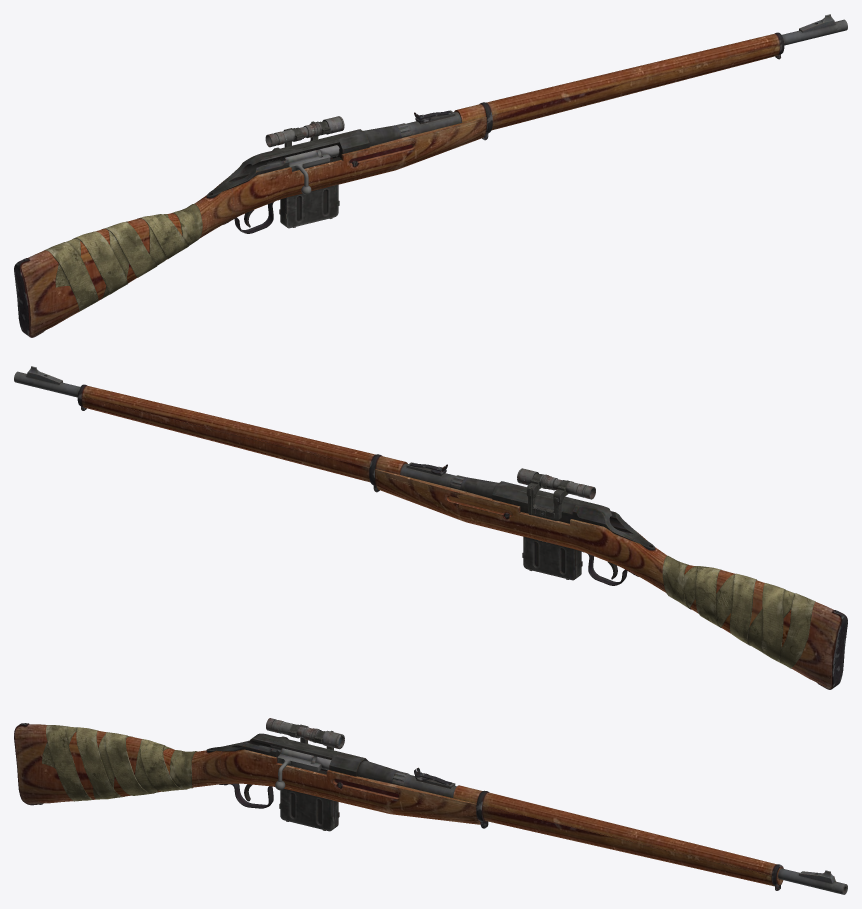
File: sniper.glb
The picture shows the model from 3 angles, top to bottom: view 1: azimuth 30°, elevation 25°; view 2: azimuth 150°, elevation 25°; view 3: azimuth 330°, elevation 25°; orthographic projection.
Visible parts, largest first — view 1: bolt_action_rifle_7_62, bolt_action_rifle_7_62_wrap, bolt_action_rifle_7_62_scope, bolt_action_rifle_7_62_bolt_a; view 2: bolt_action_rifle_7_62, bolt_action_rifle_7_62_wrap, bolt_action_rifle_7_62_scope; view 3: bolt_action_rifle_7_62, bolt_action_rifle_7_62_wrap, bolt_action_rifle_7_62_scope, bolt_action_rifle_7_62_bolt_a.
Part boxes in pixels (box(x1,y1,x2,y2)): bolt_action_rifle_7_62: box(14, 14, 847, 337); bolt_action_rifle_7_62_wrap: box(44, 203, 202, 311); bolt_action_rifle_7_62_scope: box(265, 116, 344, 147); bolt_action_rifle_7_62_bolt_a: box(259, 145, 339, 194); bolt_action_rifle_7_62: box(14, 366, 847, 689); bolt_action_rifle_7_62_wrap: box(662, 556, 815, 668); bolt_action_rifle_7_62_scope: box(517, 468, 595, 520); bolt_action_rifle_7_62: box(14, 723, 847, 894); bolt_action_rifle_7_62_wrap: box(42, 725, 197, 801); bolt_action_rifle_7_62_scope: box(266, 718, 344, 750); bolt_action_rifle_7_62_bolt_a: box(259, 745, 331, 790).
Bounding box in the file's own units: 1.23 × 0.2045 × 0.0666.
Materials: 3 (2 with a texture image).
